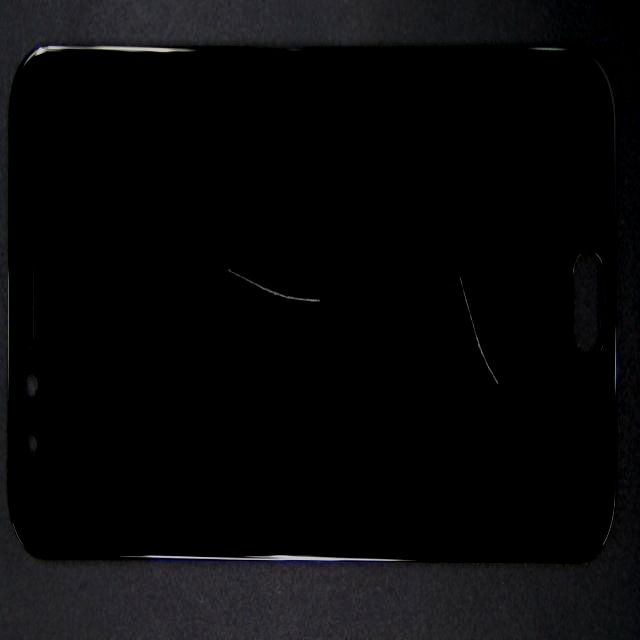scratch: (282, 262, 640, 520), (221, 174, 446, 427)
